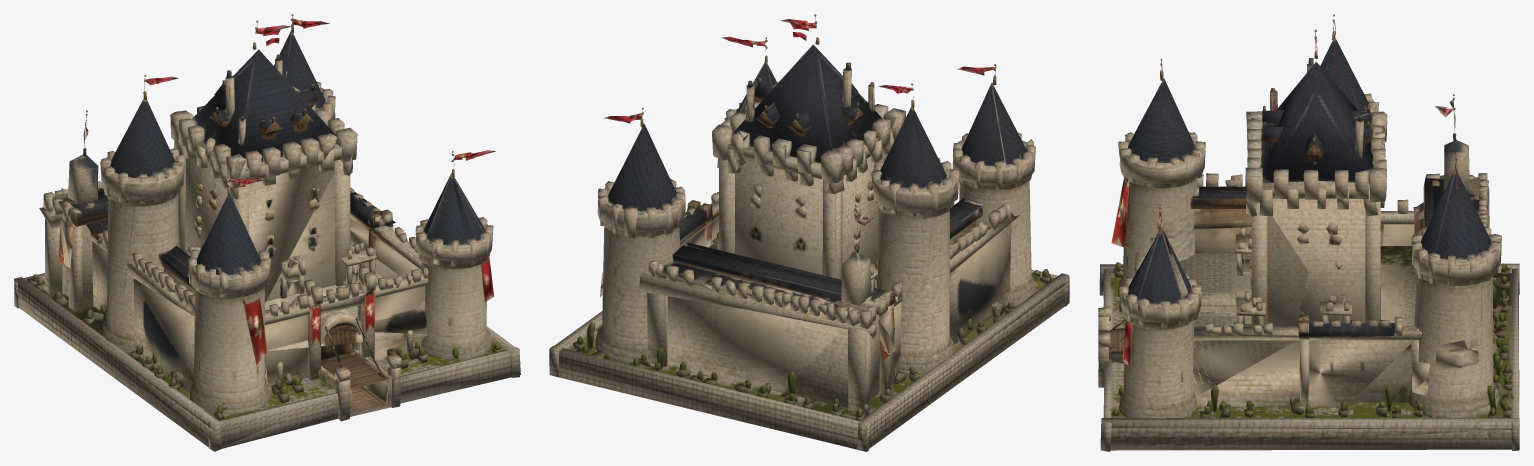
File: Meshy_AI_model.glb
The picture shows the model from 3 angles, left to right: view 1: azimuth 30°, elevation 25°; view 2: azimuth 150°, elevation 25°; view 3: azimuth 270°, elevation 25°; orthographic projection. The views are drawn at different scales.
Size of the model in its own units: 0.9027 by 0.8885 by 1.
Materials: 1 (1 with a texture image).
